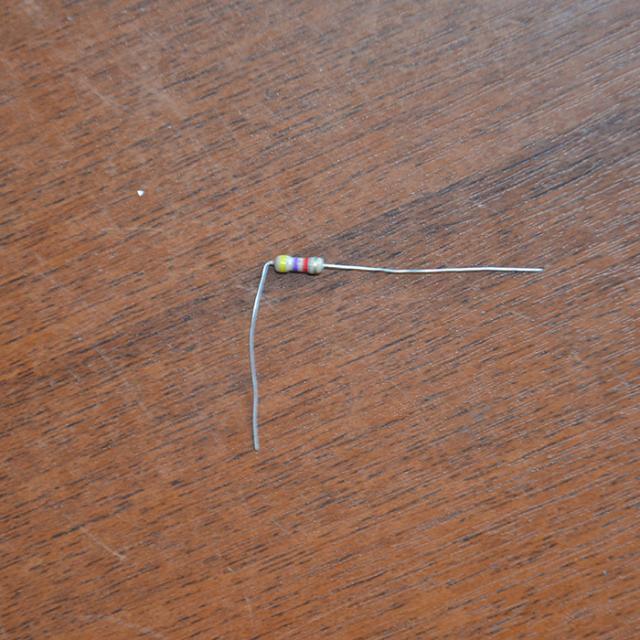gold: (313, 257, 318, 274)
red: (303, 257, 309, 271)
resistor: (265, 237, 335, 286)
violet: (293, 257, 297, 270)
yellow: (280, 254, 284, 270)
